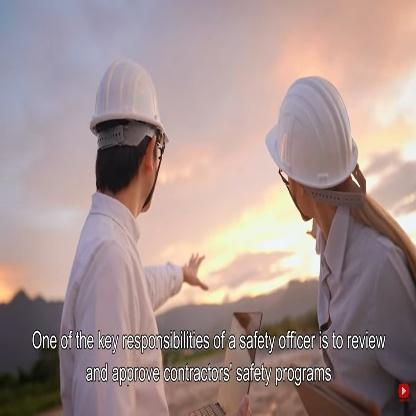helmet: (252, 70, 365, 226), (78, 59, 181, 211)
